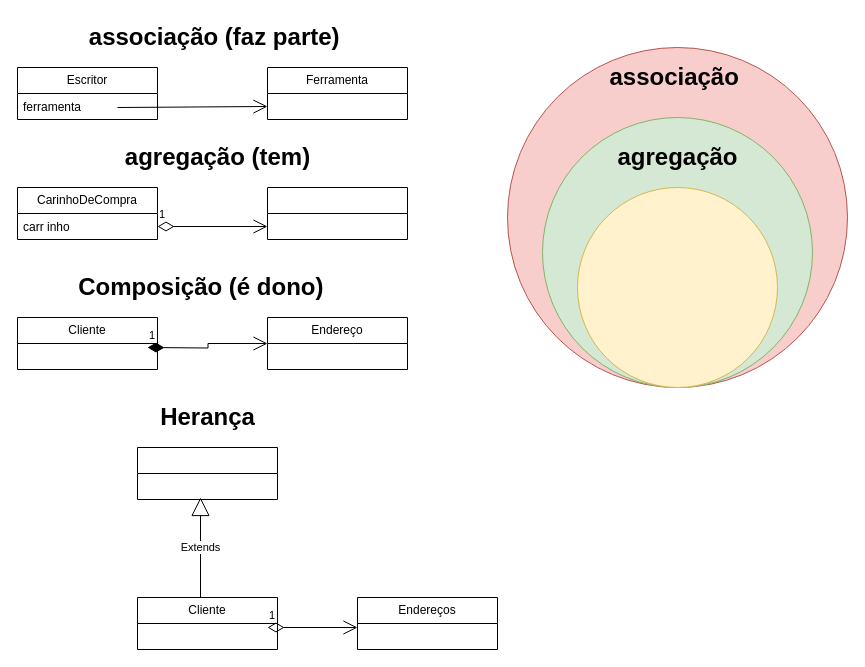
This 865x667 diagram has some shape labels left out. Each missing label, with the centre of its shape:
"Composição" belongs at point (677, 287).
"Pessoa" belongs at point (207, 473).
"Produtos" belongs at point (337, 213).
